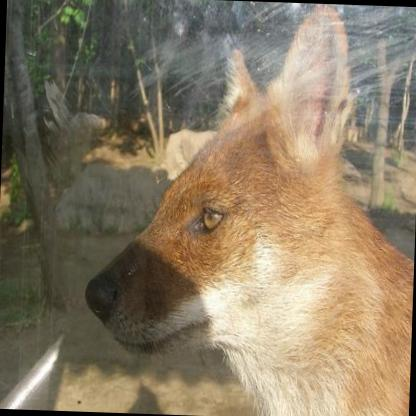dhole: (80, 0, 416, 416)
